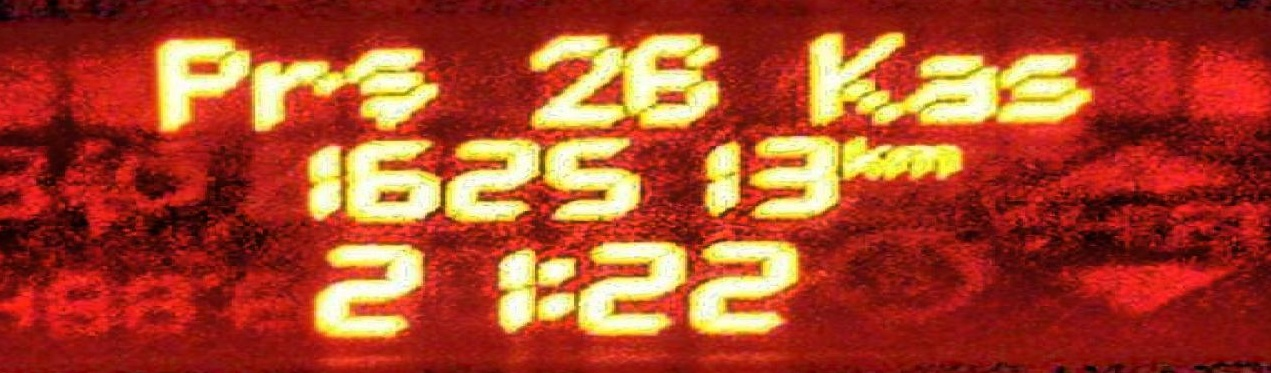1: (491, 246, 536, 332), (694, 138, 740, 217), (298, 142, 340, 221)
2: (683, 239, 801, 334), (571, 239, 687, 333), (309, 242, 422, 338), (521, 32, 623, 128), (440, 136, 538, 222)
3: (745, 134, 840, 218)
5: (541, 136, 643, 221)
6: (620, 33, 718, 127), (340, 137, 440, 223)
X: (803, 28, 905, 127), (152, 36, 252, 135), (342, 46, 438, 131), (245, 58, 343, 132), (994, 50, 1092, 123), (900, 52, 994, 124), (883, 142, 961, 178), (532, 256, 574, 322), (838, 134, 889, 179)
